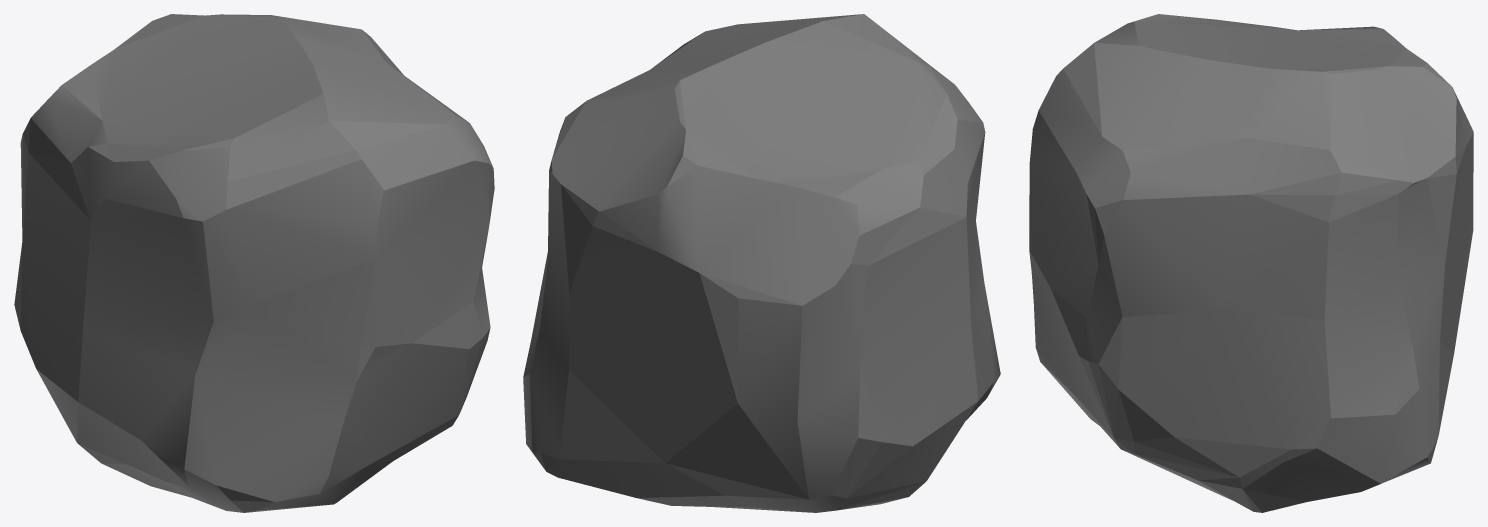
The model's file is rock.obj.
3 renders of one model, left to right at view 1: azimuth 30°, elevation 25°; view 2: azimuth 150°, elevation 25°; view 3: azimuth 270°, elevation 25°, orthographic. The views are drawn at different scales.
Visible parts, largest first — view 1: Cube.001; view 2: Cube.001; view 3: Cube.001.
Boxes of the visible parts, <box> form: Cube.001: <box>14,14,494,512</box>; Cube.001: <box>523,14,1000,512</box>; Cube.001: <box>1029,14,1473,512</box>.
Bounding box in the file's own units: 1.87 × 1.96 × 1.88.
Materials: 1 (1 with a texture image).
